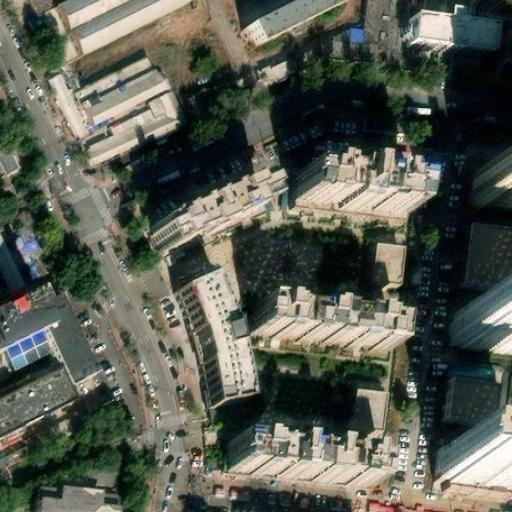building: (145, 181, 265, 263), (172, 282, 239, 406), (67, 47, 161, 125), (251, 305, 396, 355), (230, 443, 378, 491), (79, 101, 177, 168), (19, 283, 86, 378), (292, 177, 415, 228), (346, 352, 389, 455), (368, 223, 410, 324), (401, 16, 489, 59), (437, 382, 512, 426), (434, 453, 512, 495), (48, 0, 135, 37), (447, 310, 512, 355), (459, 234, 506, 294), (466, 174, 512, 219), (36, 492, 118, 512), (390, 499, 491, 512), (0, 250, 20, 296)
